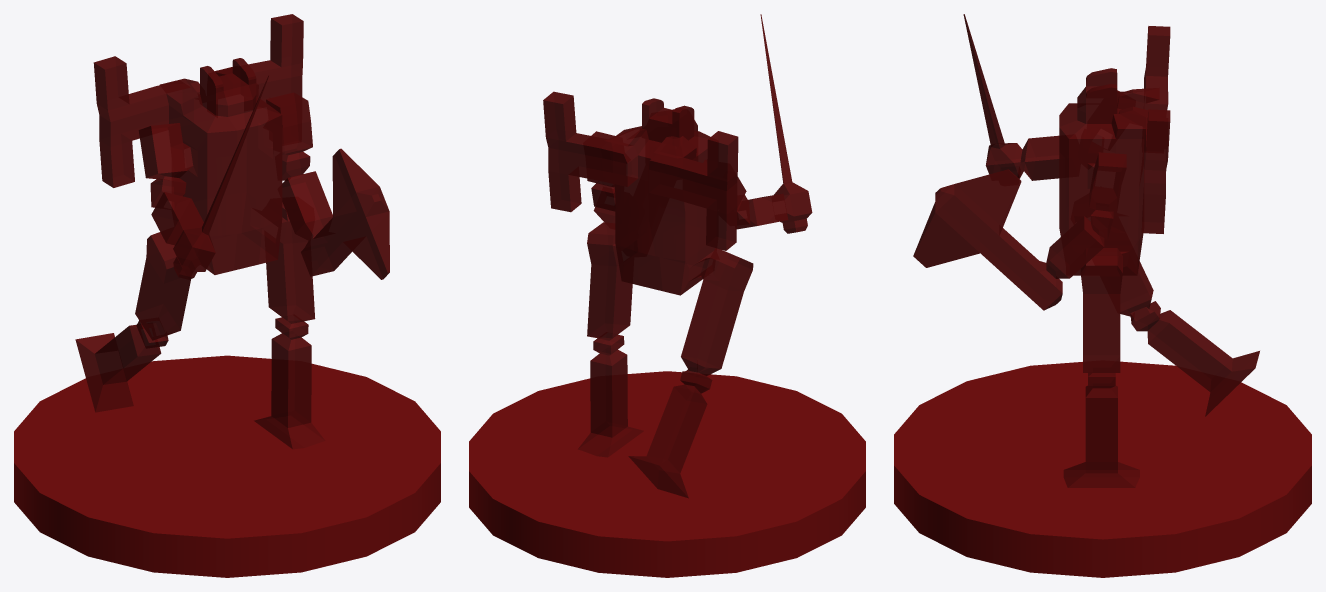
Rendered from RedTeamRobot.fbx.
3 renders of one model, left to right at view 1: azimuth 30°, elevation 25°; view 2: azimuth 150°, elevation 25°; view 3: azimuth 270°, elevation 25°, orthographic. The views are drawn at different scales.
Parts seen in each view (by area): view 1: Base, Robot; view 2: Base, Robot; view 3: Base, Robot.
Boxes of the visible parts, <box> form: Base: <box>14,355,440,577</box>; Robot: <box>75,14,389,449</box>; Base: <box>469,371,865,577</box>; Robot: <box>543,14,812,498</box>; Base: <box>894,361,1311,577</box>; Robot: <box>913,14,1259,487</box>.
Bounding box in the file's own units: 39.37 × 47.13 × 38.77.
